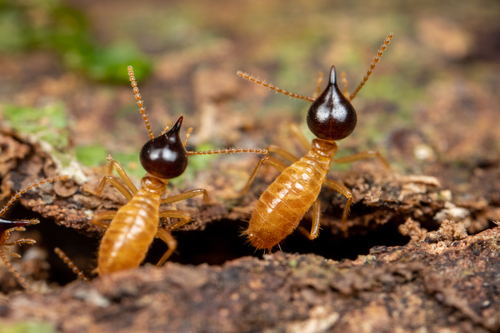nasutitermes corniger: (225, 24, 412, 289), (52, 69, 223, 286)
